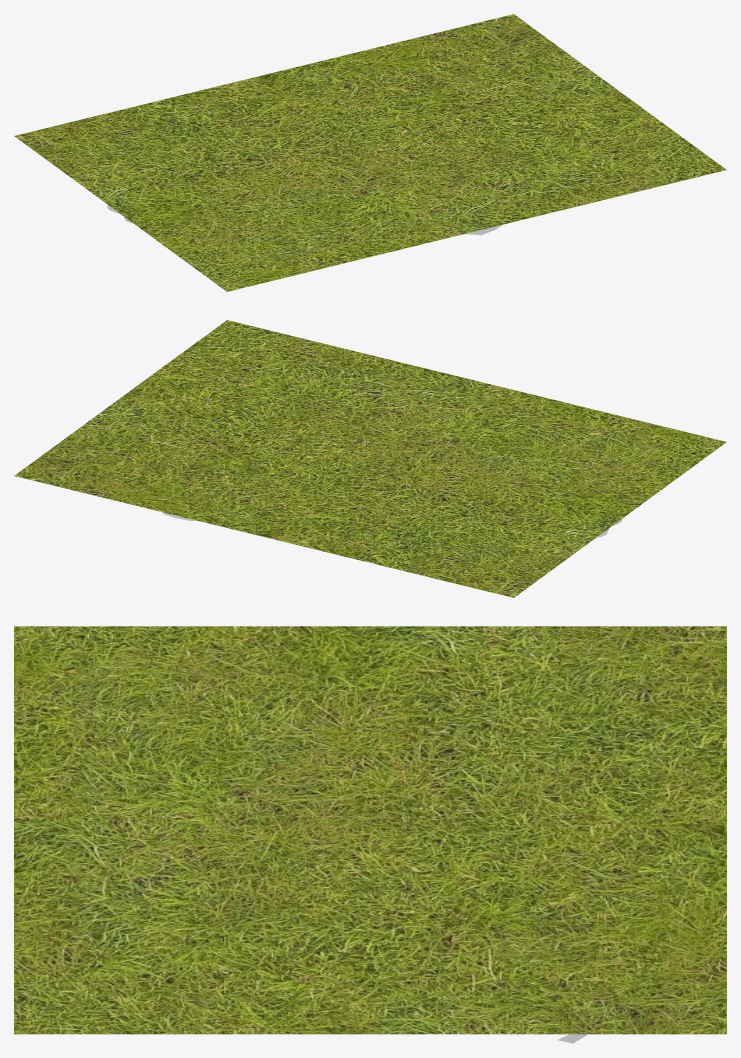
The model's file is path.gltf.
3 renders of one model, top to bottom at view 1: azimuth 30°, elevation 25°; view 2: azimuth 150°, elevation 25°; view 3: azimuth 270°, elevation 25°, orthographic. The views are drawn at different scales.
Visible parts, largest first — view 1: Plane; view 2: Plane; view 3: Plane.
Part boxes in pixels (box(x1,y1,x2,y2)): Plane: box(14, 14, 726, 291); Plane: box(14, 320, 726, 597); Plane: box(14, 626, 726, 1034).
Bounding box in the file's own units: 437 × 4.73 × 322.
